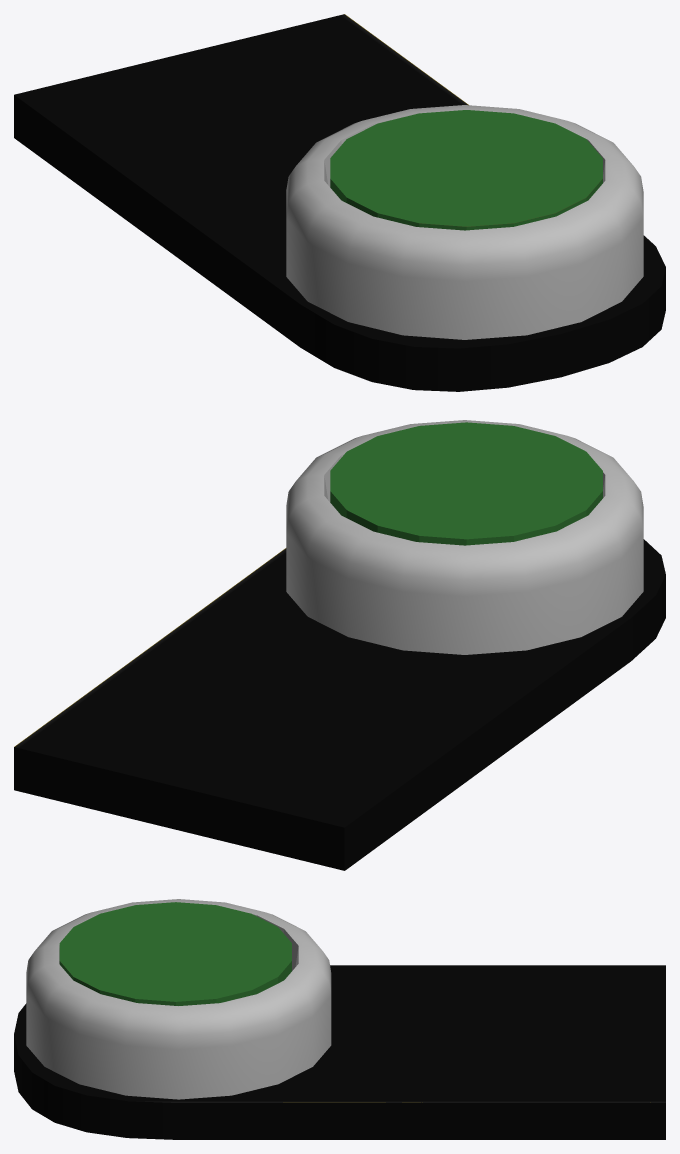
Rendered from button_push.fbx.
3 views of the same model, one above another, from view 1: azimuth 30°, elevation 25°; view 2: azimuth 150°, elevation 25°; view 3: azimuth 270°, elevation 25° (orthographic). The views are drawn at different scales.
Visible parts, largest first — view 1: button_base, button_on; view 2: button_base, button_on; view 3: button_base, button_on.
Boxes of the visible parts, x1=… form: button_base: x1=14, y1=14, x2=665, y2=391; button_on: x1=330, y1=110, x2=602, y2=230; button_base: x1=14, y1=420, x2=665, y2=870; button_on: x1=330, y1=422, x2=602, y2=545; button_base: x1=14, y1=899, x2=665, y2=1139; button_on: x1=59, y1=902, x2=291, y2=1005.
Size of the model in its own units: 2 by 0.8061 by 4.
